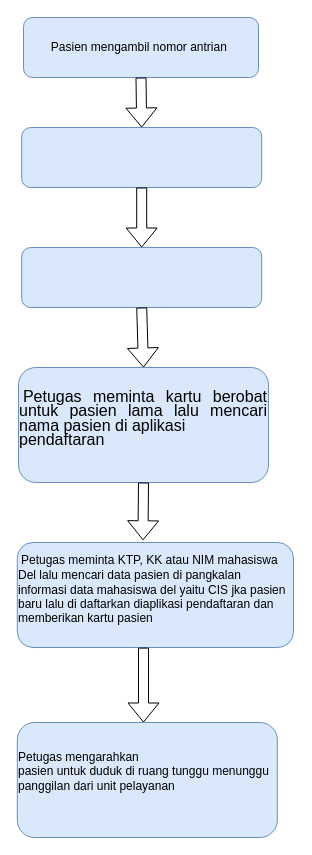
Some shapes in this 312 by 855 pixel diagram are drawn without their labels. Each missing label, with the box of its shape:
Pasien duduk menunggu antrian: (21, 126, 262, 188)
Petugas Pendaftran memanggil nomor urut antrian: (21, 246, 262, 308)
